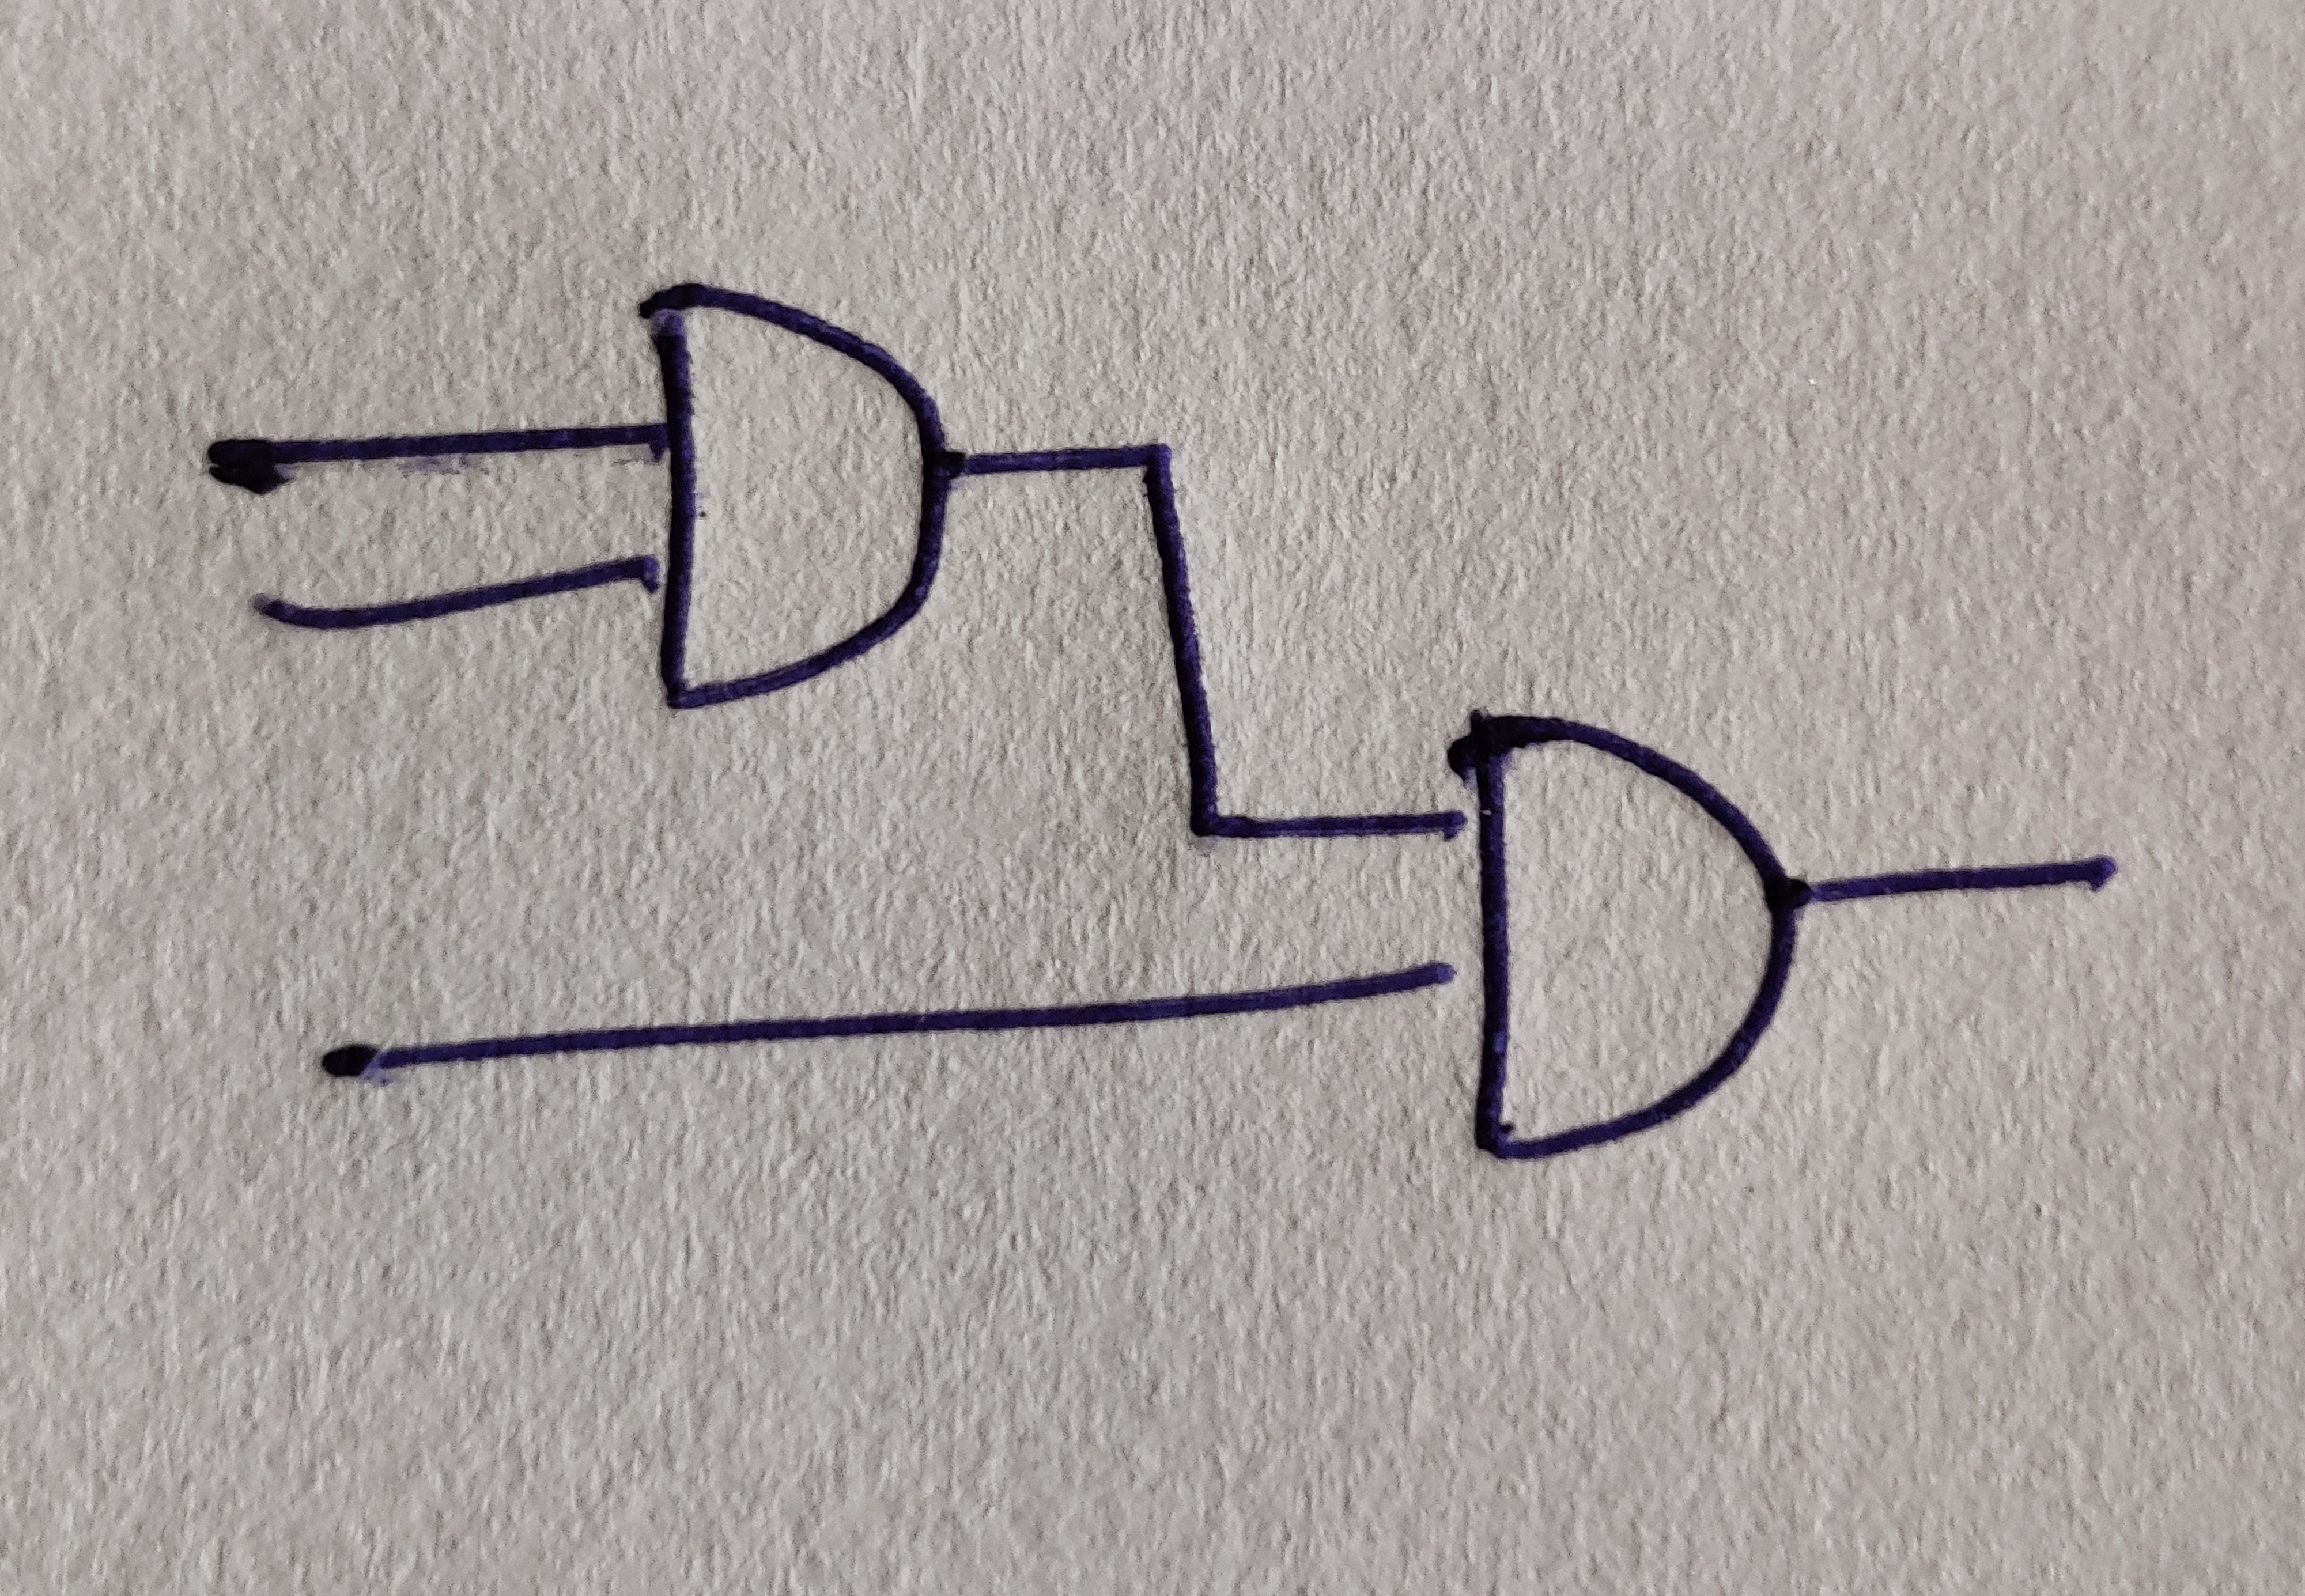and: (1447, 708, 1797, 1160), (641, 282, 949, 711)
